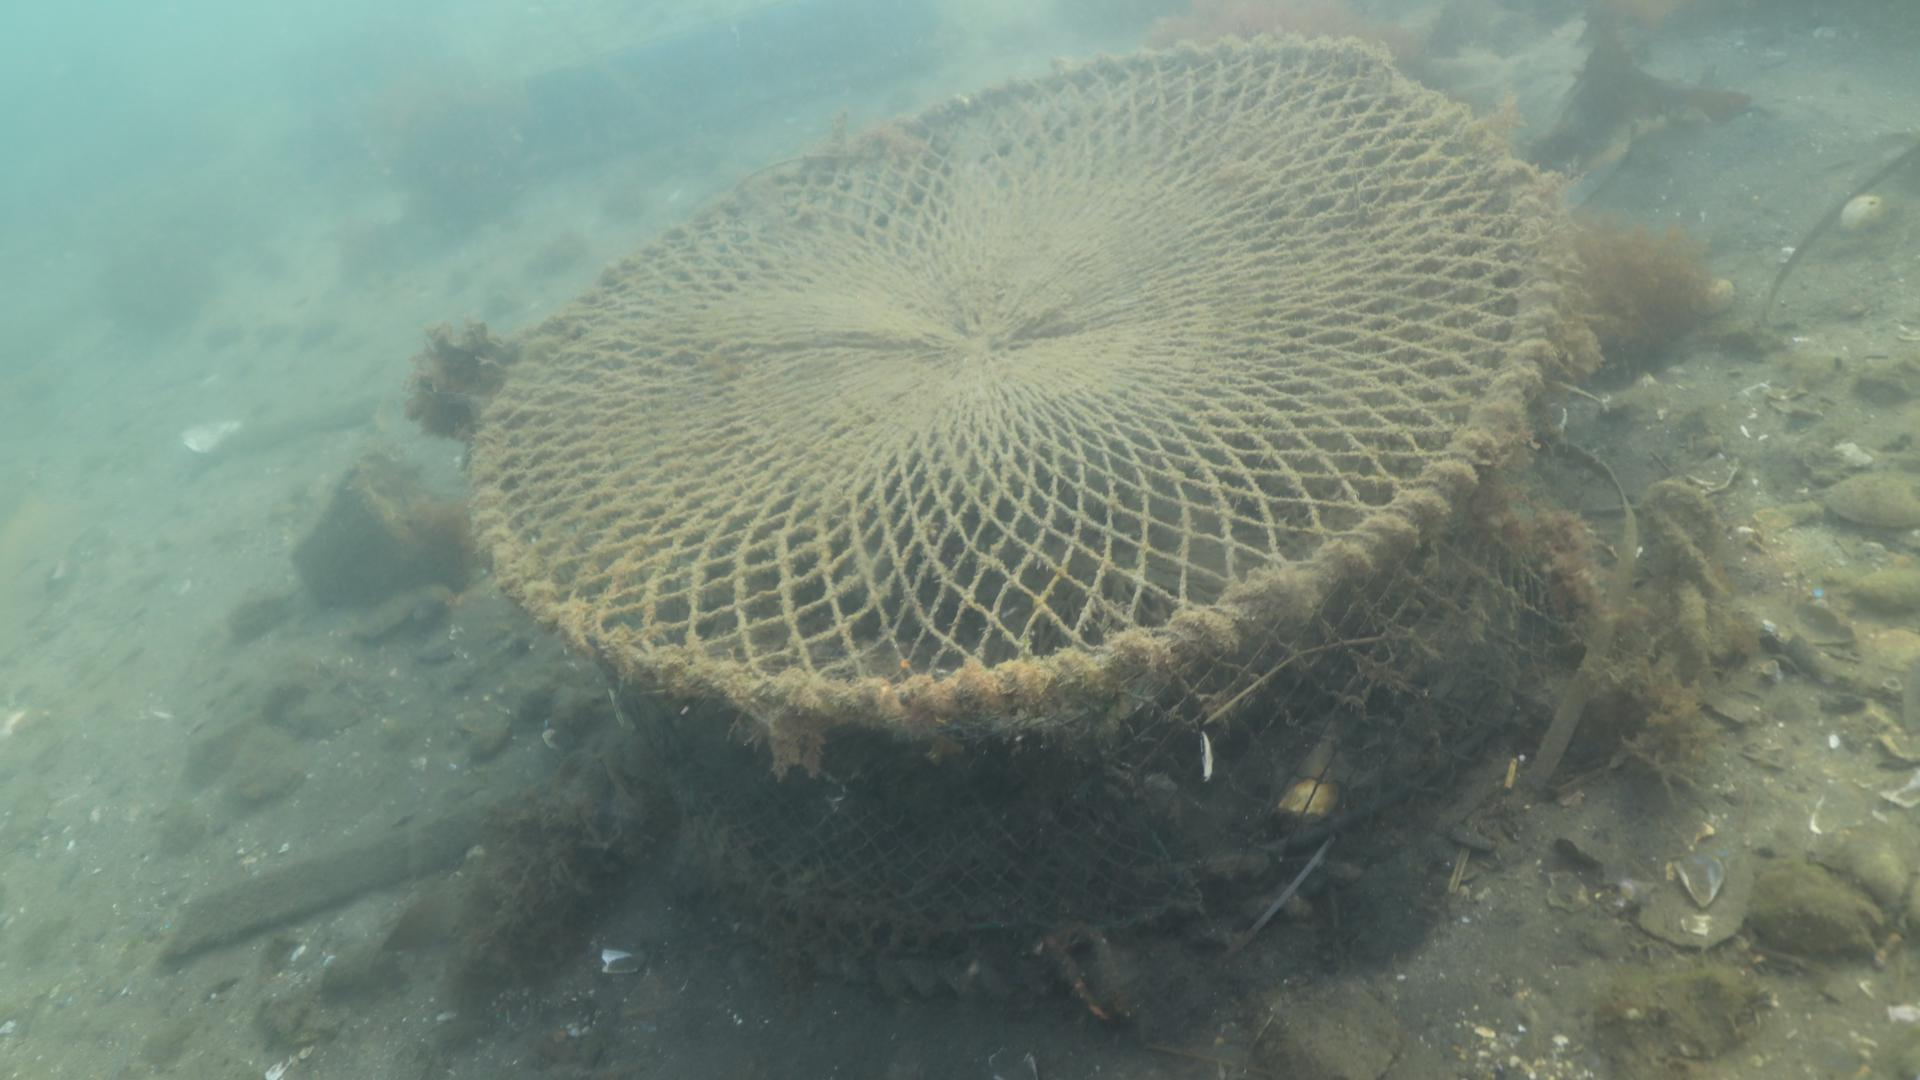circular fish trap: (462, 29, 1568, 935)
